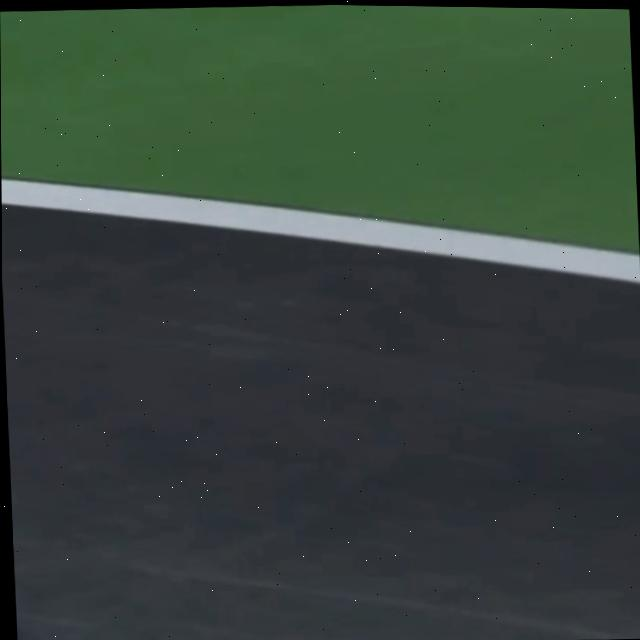right: (1, 180, 640, 286)
